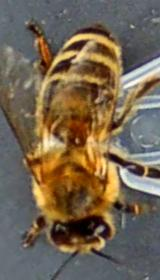varroa_mite: (62, 112, 92, 152)
